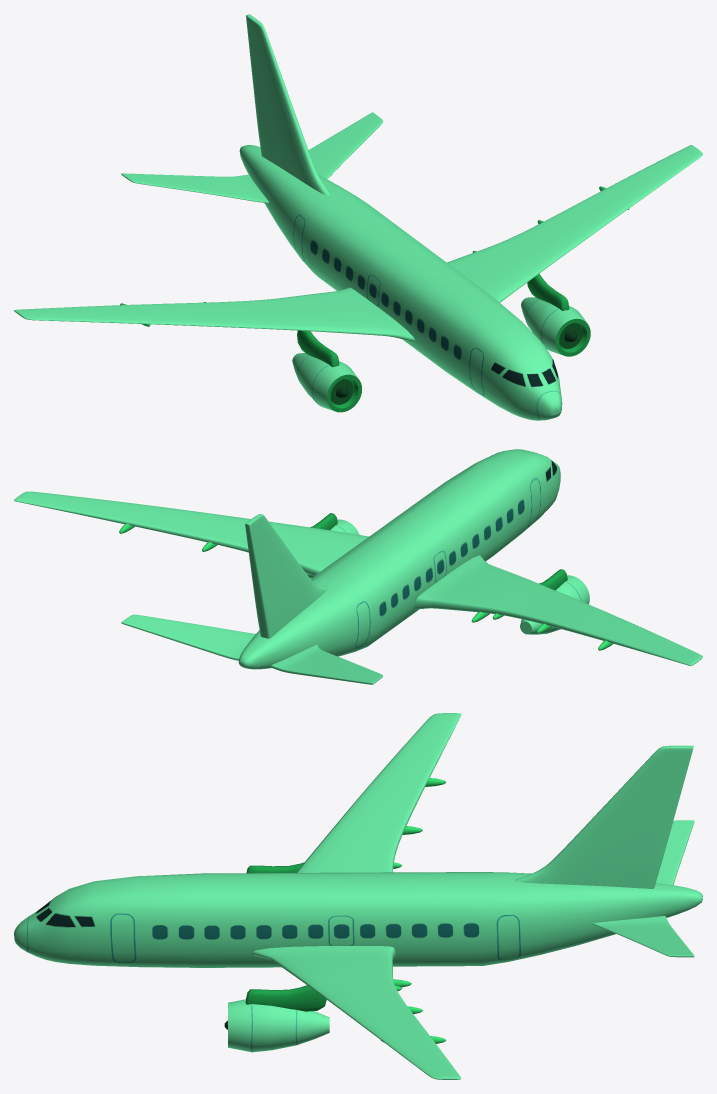
Rendered from airbus318_aqua.glb.
3 views of the same model, one above another, from view 1: azimuth 30°, elevation 25°; view 2: azimuth 150°, elevation 25°; view 3: azimuth 270°, elevation 25° (orthographic). The views are drawn at different scales.
Parts seen in each view (by area): view 1: airbus318, wings, wing-back-vertical, turbine, wings-back-horizontal, turbine-pad; view 2: airbus318, wings, wing-back-vertical, wings-back-horizontal, turbine, turbine-pad; view 3: airbus318, wings, wing-back-vertical, turbine, wings-back-horizontal, turbine-pad.
Part boxes in pixels (x1,y1,x2,y2): airbus318: [239, 145, 562, 420]; wings: [14, 145, 702, 341]; wing-back-vertical: [246, 14, 329, 195]; turbine: [292, 297, 590, 412]; wings-back-horizontal: [121, 112, 383, 203]; turbine-pad: [297, 273, 569, 367]; airbus318: [238, 449, 560, 669]; wings: [14, 491, 702, 665]; wing-back-vertical: [245, 514, 329, 638]; wings-back-horizontal: [121, 614, 382, 684]; turbine: [306, 519, 589, 634]; turbine-pad: [310, 513, 567, 590]; airbus318: [14, 872, 702, 967]; wings: [251, 713, 461, 1079]; wing-back-vertical: [515, 745, 693, 888]; turbine: [224, 999, 329, 1052]; wings-back-horizontal: [592, 820, 694, 957]; turbine-pad: [245, 862, 326, 1011].
Size of the model in its own units: 4.66 by 1.44 by 3.71.
1 material, 1 textured.
